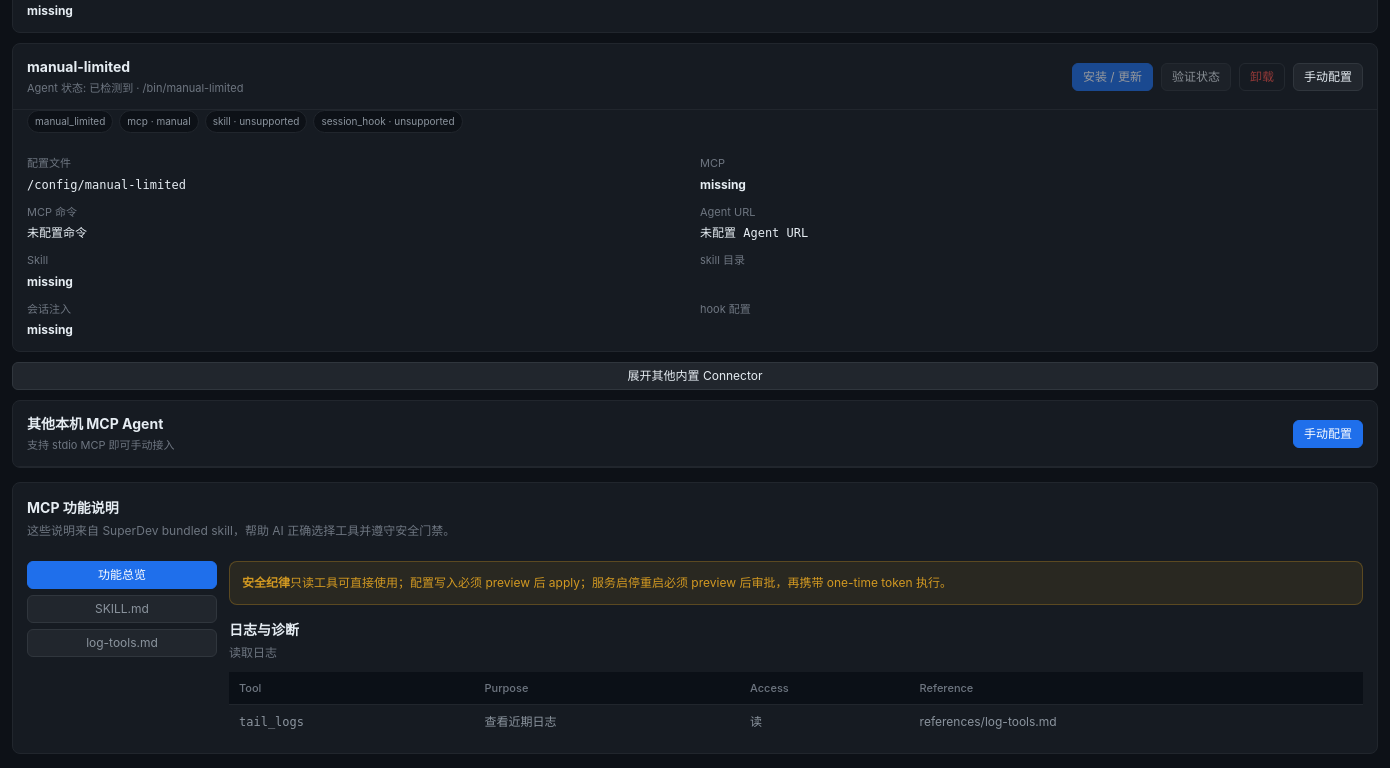
McpManagerTab › retains shared capability docs below the dynamic list
The width and height of the screenshot is (1390, 768).
(page scrolled)
Click the button with test id "mcp-doc-references/log-tools.md": (122, 644) [27,630,217,658]
(page scrolled)
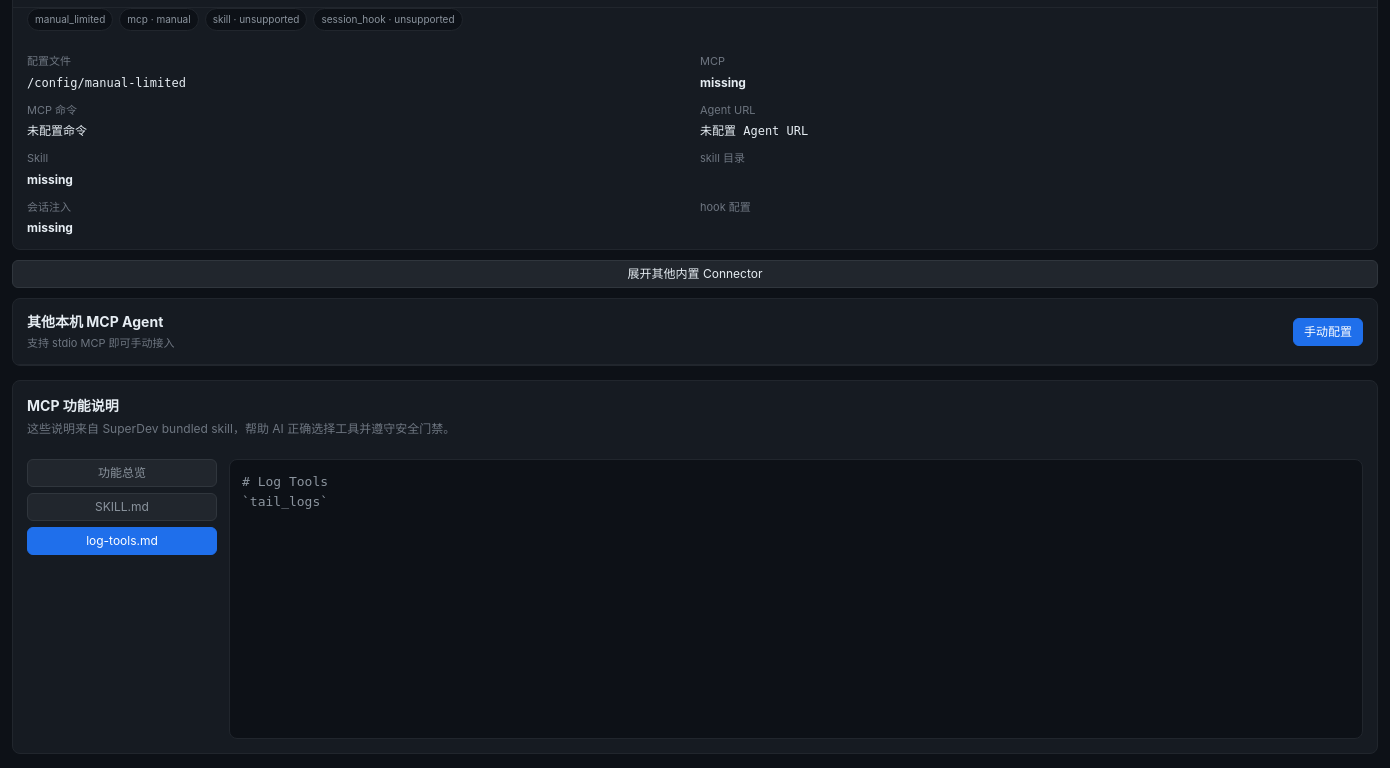
Expected: the text with test id "mcp-doc-content" shows "# Log Tools", [242,474,328,509]
